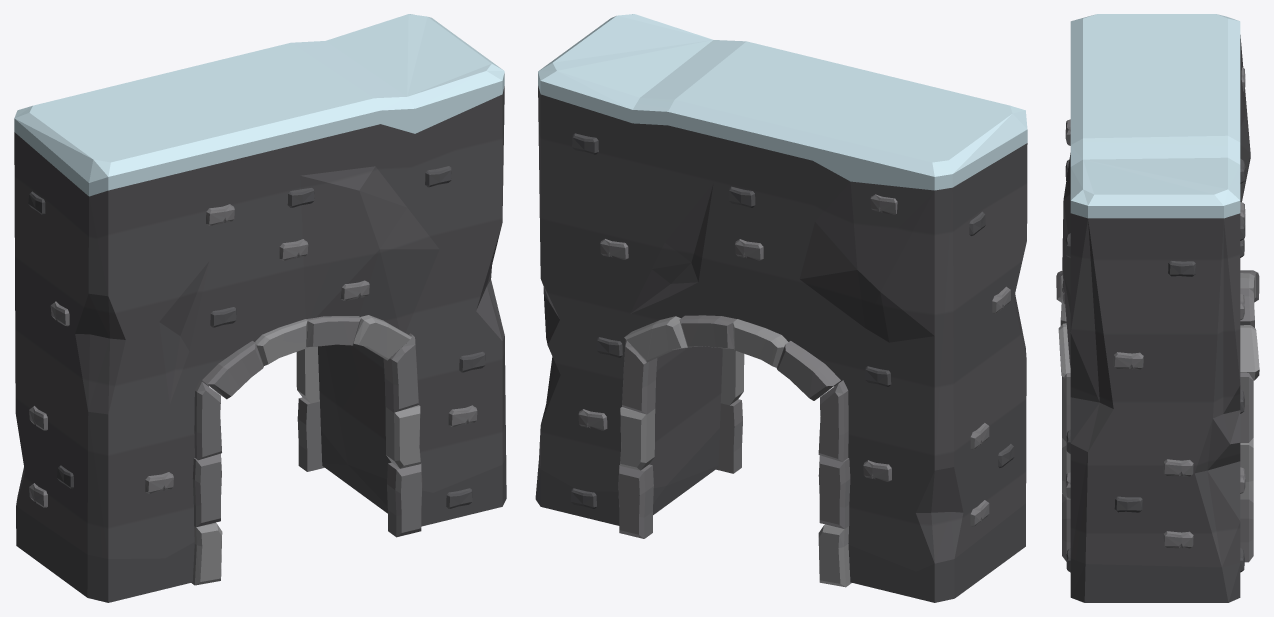
File: SM_Bld_Castle_Wall_Gate_01_Snow.gltf
3 renders of one model, left to right at view 1: azimuth 30°, elevation 25°; view 2: azimuth 150°, elevation 25°; view 3: azimuth 270°, elevation 25°, orthographic. The views are drawn at different scales.
Parts seen in each view (by area): view 1: SM_Bld_Castle_Wall_Gate_01_Snow; view 2: SM_Bld_Castle_Wall_Gate_01_Snow; view 3: SM_Bld_Castle_Wall_Gate_01_Snow.
Part boxes in pixels (<box>): SM_Bld_Castle_Wall_Gate_01_Snow: <box>14,14,506,602</box>; SM_Bld_Castle_Wall_Gate_01_Snow: <box>535,14,1027,602</box>; SM_Bld_Castle_Wall_Gate_01_Snow: <box>1056,14,1259,602</box>.
Size of the model in its own units: 5.4 by 5.29 by 2.4.
1 material, 1 textured.
